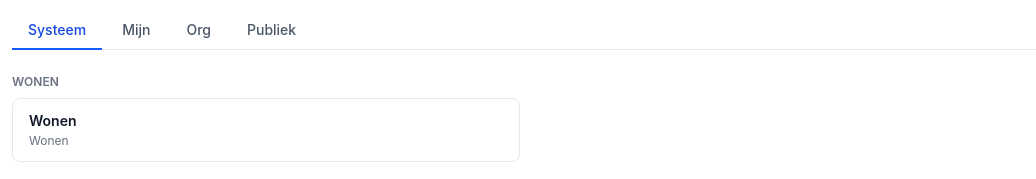
Test: <TemplateGalleryStep> › surfaces fetch errors via an alert role
Click the tab "Publiek" at (272, 31), box top-left (231, 12), bottom-right (312, 50)
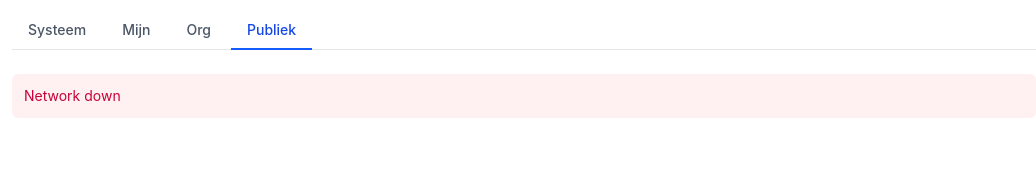
Check: the message reads "Network down", box top-left (24, 87), bottom-right (121, 104)
